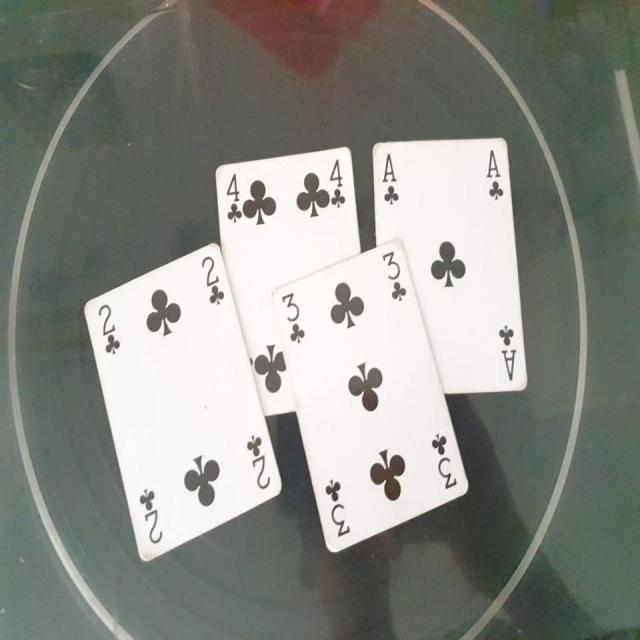2 Trefoils: (82, 239, 282, 562)
3 Trefoils: (270, 238, 470, 556)
4 Trefoils: (212, 145, 364, 415)
A Trefoils: (370, 133, 530, 394)
